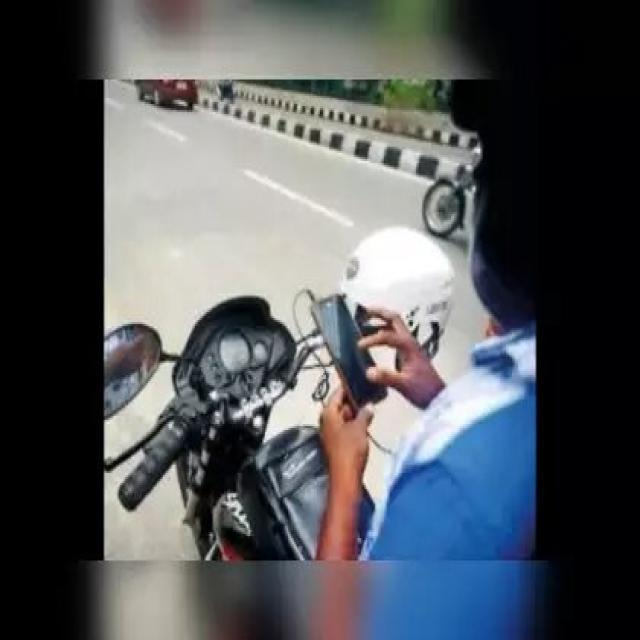use_mobile: (306, 292, 394, 484)
